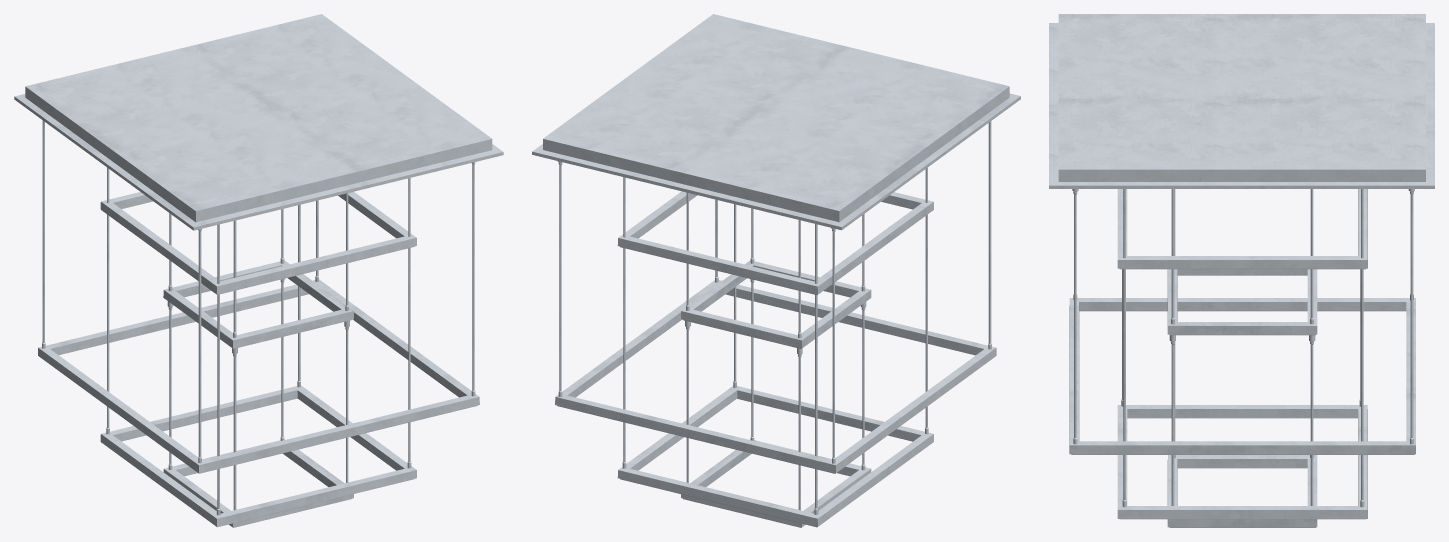
The model's file is SM_CeilingLamp3.fbx.
3 views of the same model, side by side, from view 1: azimuth 30°, elevation 25°; view 2: azimuth 150°, elevation 25°; view 3: azimuth 270°, elevation 25° (orthographic). The views are drawn at different scales.
Parts seen in each view (by area): view 1: SM_CeilingLamp3_LOD0; view 2: SM_CeilingLamp3_LOD0; view 3: SM_CeilingLamp3_LOD0.
Boxes of the visible parts, left/top/right/bottom form: SM_CeilingLamp3_LOD0: left=14, top=14, right=503, bottom=527; SM_CeilingLamp3_LOD0: left=532, top=14, right=1020, bottom=527; SM_CeilingLamp3_LOD0: left=1049, top=14, right=1434, bottom=527.
Size of the model in its own units: 154 by 154 by 179.
2 materials, 1 textured.
